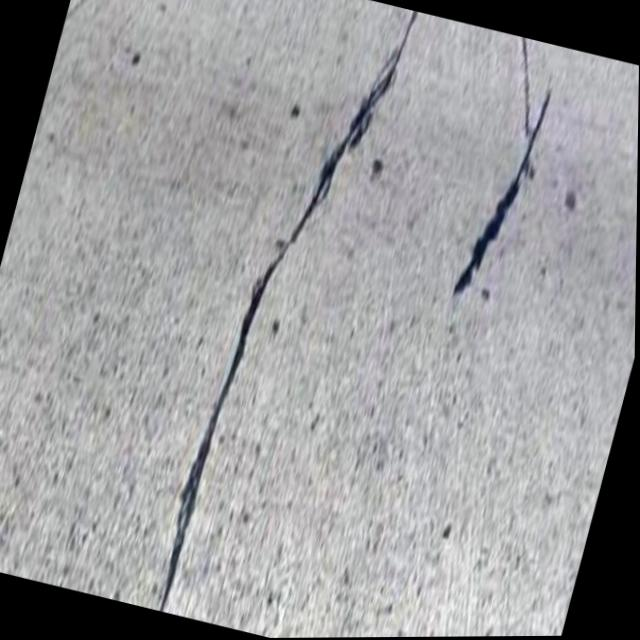Crack: (146, 0, 432, 638), (437, 34, 585, 318)
